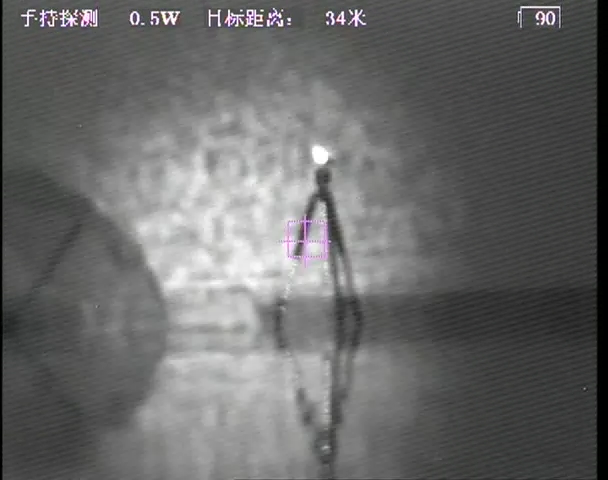my: (310, 146, 331, 166)
